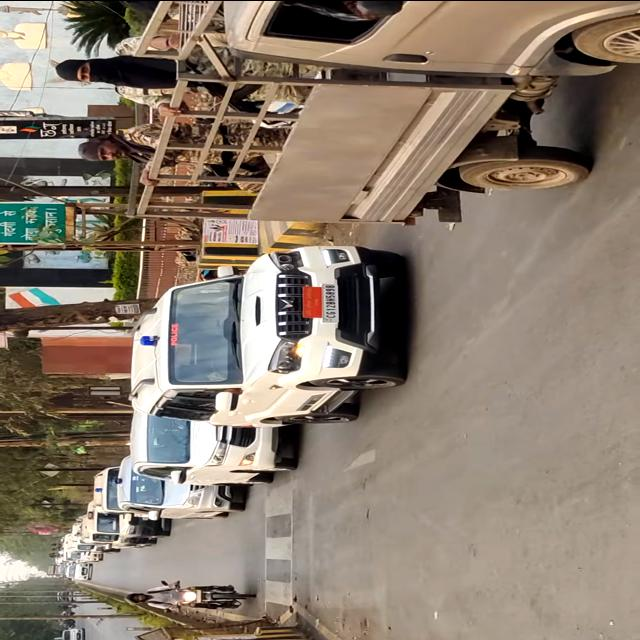emergency-vehicles: (126, 229, 418, 431), (110, 450, 249, 522)
